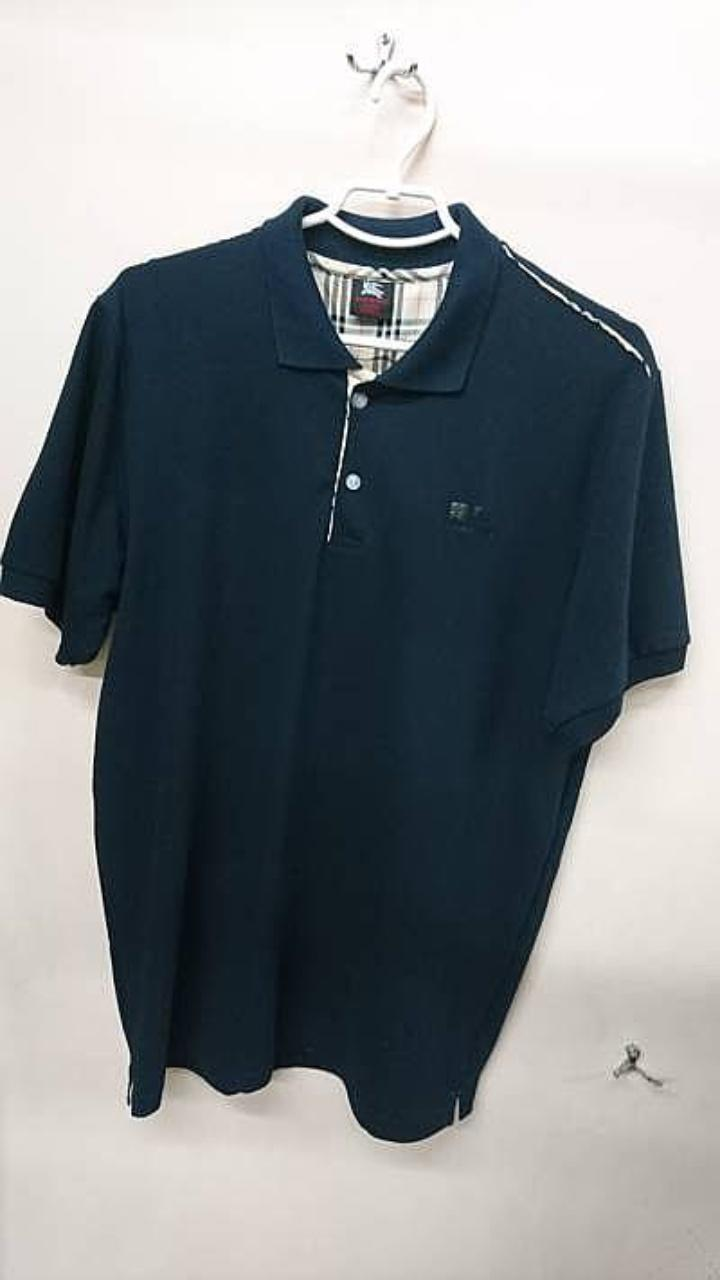T-Shirt: (0, 195, 689, 1141)
